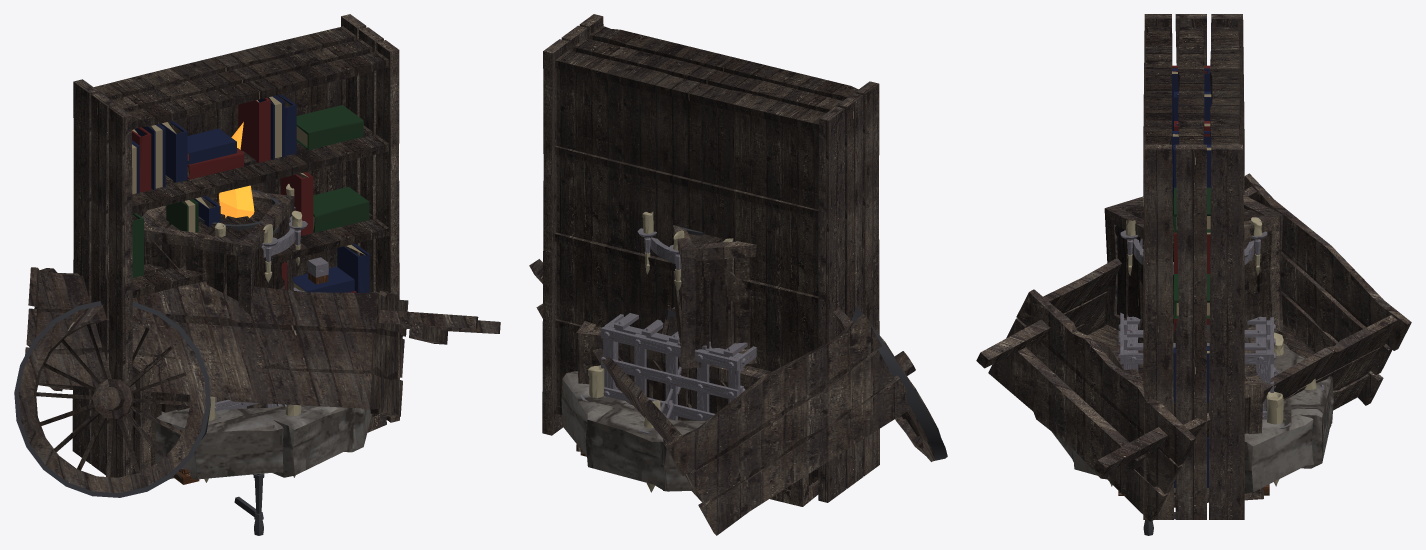
The model's file is props.glb.
The picture shows the model from 3 angles, left to right: view 1: azimuth 30°, elevation 25°; view 2: azimuth 150°, elevation 25°; view 3: azimuth 270°, elevation 25°; orthographic projection. The views are drawn at different scales.
Parts seen in each view (by area): view 1: bookcase, cart, crate_stack, bonfire, candle_stand, brazier, weapon_stand, torch_wall; view 2: bookcase, cart, crate_stack, bonfire, cage, candle_stand, crate, chandelier, barrel; view 3: bookcase, cart, crate_stack, bonfire, cage, candle_stand, chandelier.
Boxes of the visible parts, x1,y1,x2,y2 form: bookcase: (72, 14, 399, 477); cart: (14, 267, 500, 497); crate_stack: (132, 191, 386, 478); bonfire: (155, 404, 371, 479); candle_stand: (215, 184, 307, 282); brazier: (198, 122, 278, 235); weapon_stand: (173, 257, 328, 484); torch_wall: (234, 473, 264, 535); bookcase: (542, 14, 879, 502); cart: (529, 259, 947, 535); crate_stack: (576, 225, 818, 506); bonfire: (561, 371, 705, 491); cage: (601, 313, 756, 421); candle_stand: (637, 212, 733, 291); crate: (622, 343, 692, 420); chandelier: (580, 365, 681, 492); barrel: (657, 305, 691, 406); bookcase: (1143, 14, 1244, 519); cart: (976, 173, 1411, 521); crate_stack: (1104, 195, 1283, 507); bonfire: (1051, 337, 1333, 493); cage: (1118, 312, 1275, 419); candle_stand: (1120, 197, 1267, 275); chandelier: (1109, 328, 1324, 486).
Size of the model in its own units: 3.31 by 3.24 by 2.83.
19 materials, 7 textured.
